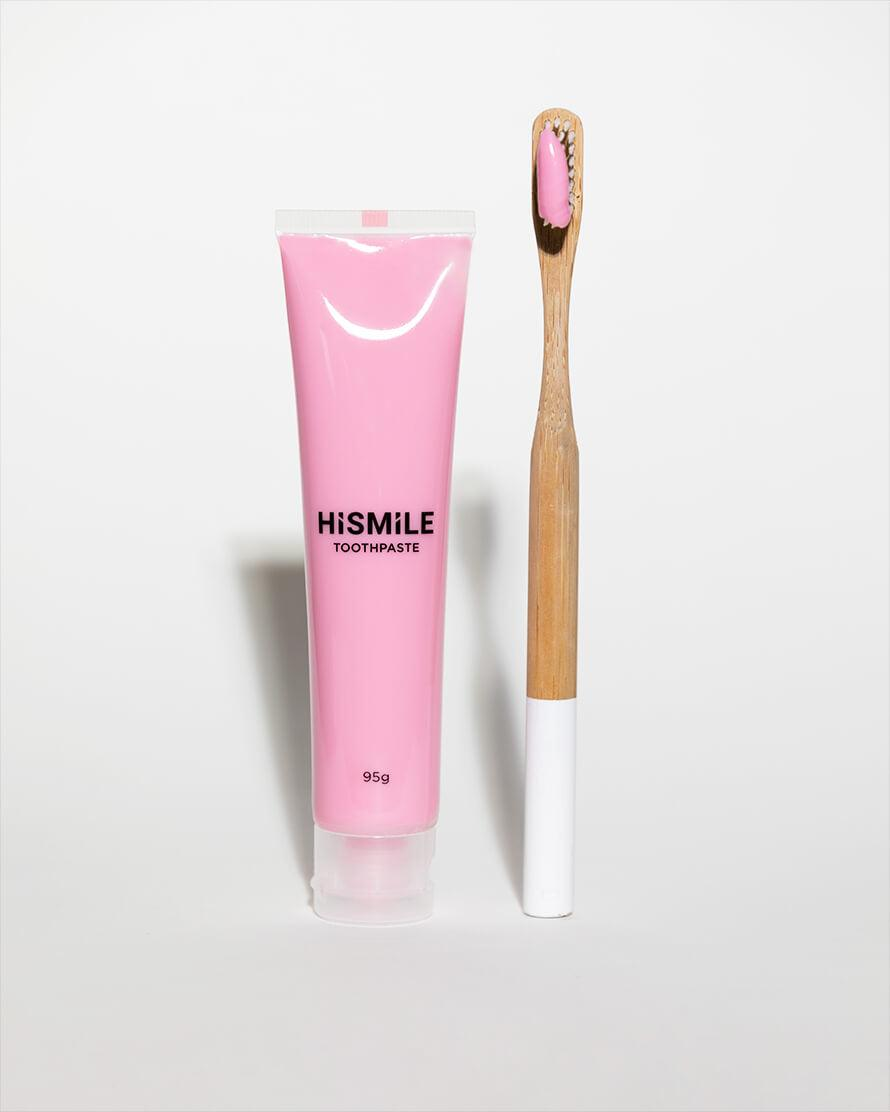toothpaste: (266, 189, 484, 935)
